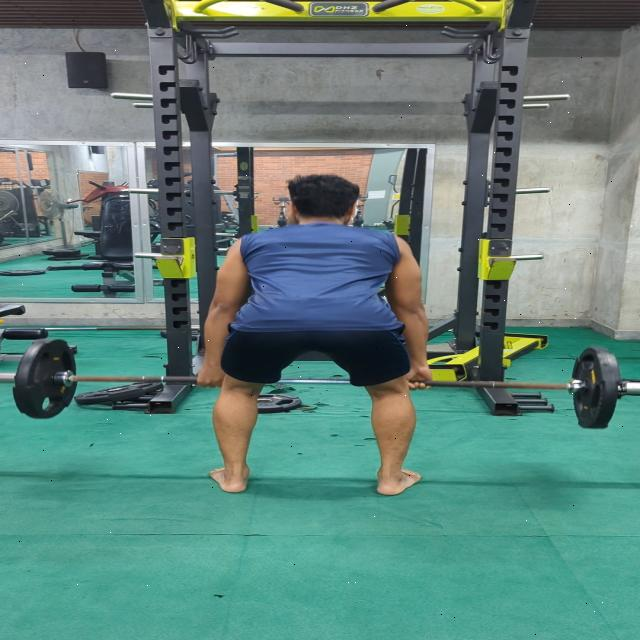Normal_Deadlifts: (194, 175, 435, 496)
